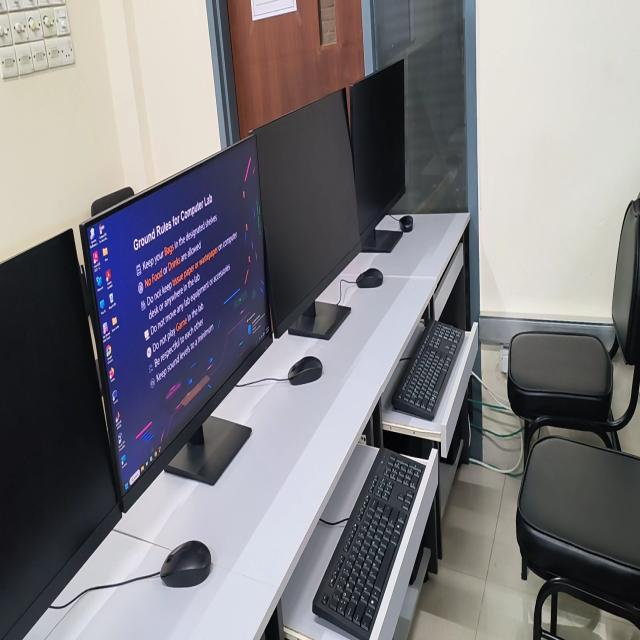Chair: (507, 194, 640, 465), (516, 437, 640, 639)
Keyboard: (312, 450, 426, 639), (391, 321, 464, 420)
Monitor: (81, 137, 276, 511), (0, 230, 121, 639), (255, 90, 360, 336), (350, 60, 405, 238)
Mouse: (160, 540, 211, 587), (288, 356, 322, 385), (356, 268, 383, 288), (398, 215, 413, 232)
